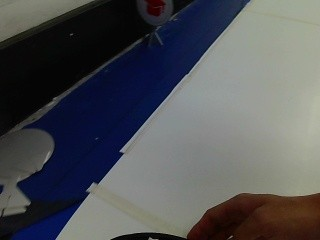school: (138, 0, 173, 26)
